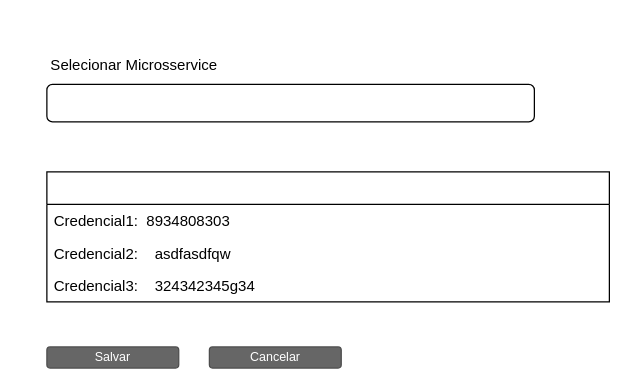
Image size: 631x390. Some labels were removed from this diagram. The shapes that lost their labels are listed below. From the top down, each one's box as (x1, y1, x2, y2) in pixels, then its label:
(46, 83, 534, 122): zerotouch-ms
(46, 171, 609, 302): nomeMicrosservice - Credenciais
